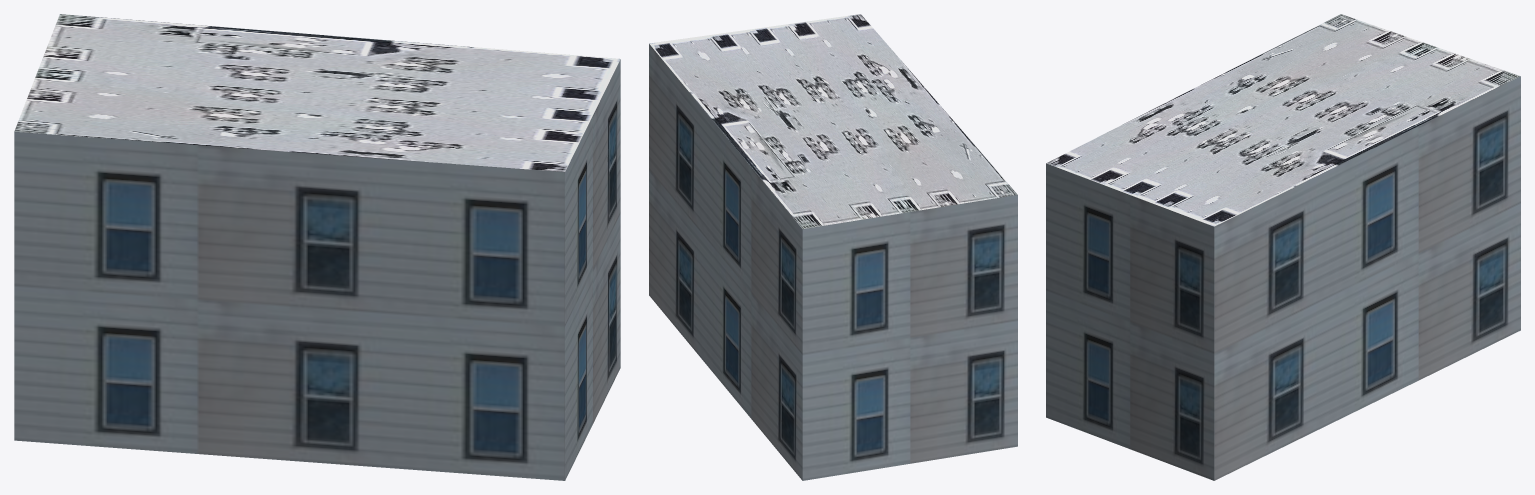
File: ResTex__1377.fbx
3 views of the same model, side by side, from view 1: azimuth 30°, elevation 25°; view 2: azimuth 150°, elevation 25°; view 3: azimuth 270°, elevation 25° (orthographic). The views are drawn at different scales.
Parts seen in each view (by area): view 1: CityEngineMaterial_18_m, CityEngineMaterial_4_m; view 2: CityEngineMaterial_18_m, CityEngineMaterial_4_m; view 3: CityEngineMaterial_18_m, CityEngineMaterial_4_m.
Part boxes in pixels (x1=…): CityEngineMaterial_18_m: x1=14, y1=59, x2=620, y2=480; CityEngineMaterial_4_m: x1=14, y1=14, x2=620, y2=171; CityEngineMaterial_18_m: x1=649, y1=44, x2=1017, y2=480; CityEngineMaterial_4_m: x1=649, y1=14, x2=1017, y2=228; CityEngineMaterial_18_m: x1=1046, y1=76, x2=1520, y2=480; CityEngineMaterial_4_m: x1=1046, y1=14, x2=1520, y2=226.
Bounding box in the file's own units: 10.77 × 6 × 10.15.
2 materials, 2 textured.
